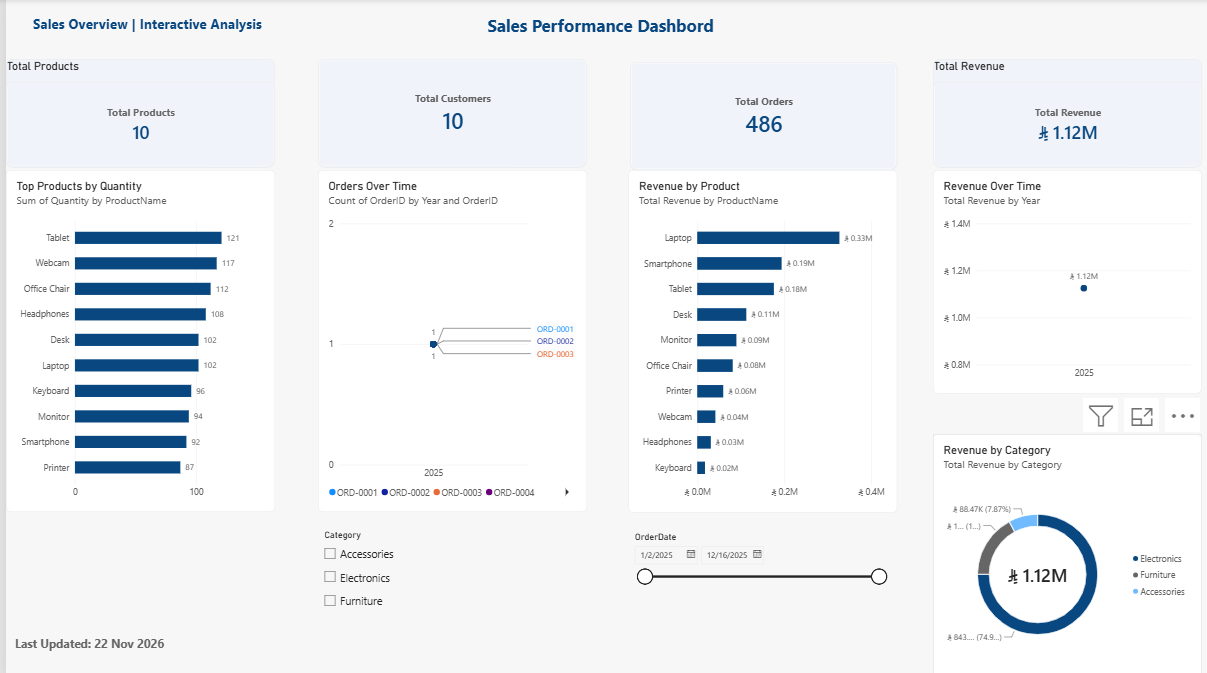

This screenshot's page, from the dashboard's own definition file:
{"tool":"powerbi","page":{"name":"Page 1","canvas":[1920,1080],"ordinal":0},"visuals":[{"type":"cardVisual","fields":{"Data":["CountNonNull(Orders.OrderID)"]},"box":[992.1,99.2,425.2,172.9],"z":0},{"type":"cardVisual","fields":{"Data":["Count(Orders.CustomerID)"]},"box":[496.1,96.4,428,172.9],"z":1000},{"type":"cardVisual","title":"Total Products","fields":{"Data":["Count(Orders.ProductID)"]},"box":[0,96.4,428,172.9],"z":2000},{"type":"clusteredBarChart","title":"Top Products by Quantity","fields":{"Category":["Products.ProductName"],"Y":["Sum(Orders.Quantity)"]},"box":[0,272.1,428,544.3],"z":3000},{"type":"lineChart","title":"Orders Over Time","fields":{"Category":["Orders.OrderDate.Variation.Date Hierarchy.Year","Orders.OrderDate.Variation.Date Hierarchy.Quarter","Orders.OrderDate.Variation.Date Hierarchy.Month","Orders.OrderDate.Variation.Date Hierarchy.Day"],"Series":["Orders.OrderID"],"Y":["CountNonNull(Orders.OrderID)"]},"box":[496.1,272.1,428,544.3],"z":4000},{"type":"cardVisual","title":"Total Revenue","fields":{"Data":["Customers.Total Revenue"]},"box":[1474,96.4,428,172.9],"z":5000},{"type":"lineChart","title":" Revenue Over Time","fields":{"Category":["Orders.OrderDate.Variation.Date Hierarchy.Year","Orders.OrderDate.Variation.Date Hierarchy.Quarter","Orders.OrderDate.Variation.Date Hierarchy.Month","Orders.OrderDate.Variation.Date Hierarchy.Day"],"Y":["Customers.Total Revenue"]},"box":[1474,272.1,427.5,355],"z":6000},{"type":"clusteredBarChart","title":"Revenue by Product","fields":{"Category":["Products.ProductName"],"Y":["Customers.Total Revenue"]},"box":[989.3,272.1,427.5,545],"z":7000},{"type":"donutChart","title":" Revenue by Category","fields":{"Category":["Products.Category"],"Y":["Customers.Total Revenue"]},"box":[1474,691.7,427.5,390],"z":8000},{"type":"slicer","fields":{"Values":["Products.Category"]},"box":[498.9,844.7,427.5,165],"z":9000},{"type":"slicer","fields":{"Values":["Orders.OrderDate"]},"box":[992.1,847.6,428,164.4],"z":10000},{"type":"textbox","box":[751.2,22.7,388.3,73.7],"z":11000},{"type":"textbox","box":[42.5,22.7,385.5,73.7],"z":11001},{"type":"textbox","box":[14.2,1012,255.1,53.9],"z":11002}]}

Visuals, with their boxes in screenshot pixels (x1, y1, x2, y2), scaled from the page's 1920x1080 canvas onto the 1207x673 screenshot:
cardVisual - CountNonNull(Orders.OrderID): <box>624,62,891,170</box>
cardVisual - Count(Orders.CustomerID): <box>312,60,581,168</box>
"Total Products" cardVisual: <box>0,60,269,168</box>
"Top Products by Quantity" clusteredBarChart: <box>0,170,269,509</box>
"Orders Over Time" lineChart: <box>312,170,581,509</box>
"Total Revenue" cardVisual: <box>927,60,1196,168</box>
" Revenue Over Time" lineChart: <box>927,170,1195,391</box>
"Revenue by Product" clusteredBarChart: <box>622,170,891,509</box>
" Revenue by Category" donutChart: <box>927,431,1195,672</box>
slicer - Products.Category: <box>314,526,582,629</box>
slicer - Orders.OrderDate: <box>624,528,893,631</box>
textbox: <box>472,14,716,60</box>
textbox: <box>27,14,269,60</box>
textbox: <box>9,631,169,664</box>
